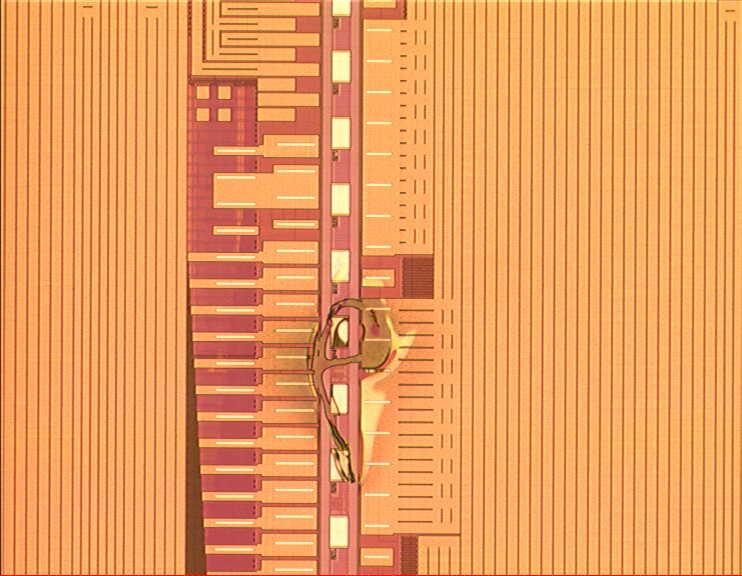BLOCK ETCH: (279, 255, 438, 488)
